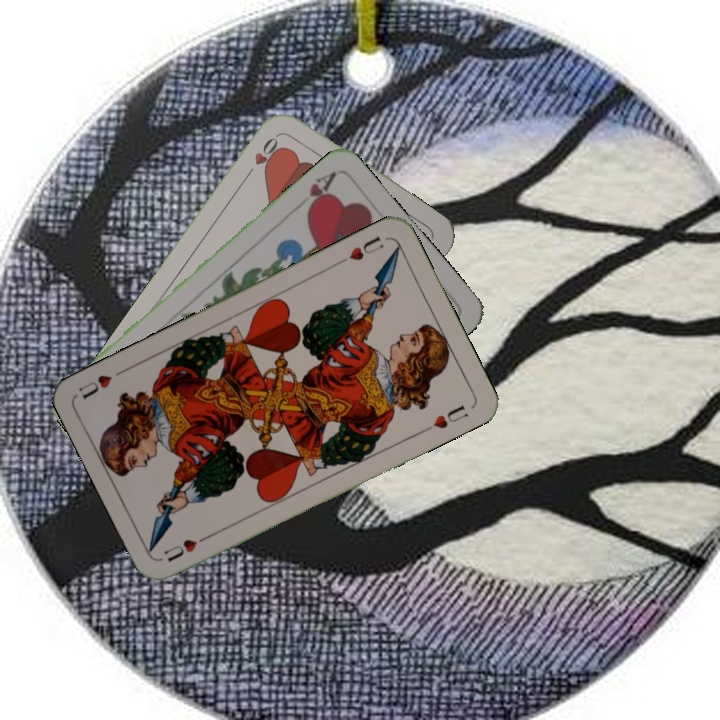HA: (291, 167, 339, 216)
HO: (242, 129, 285, 180)
HU: (159, 530, 214, 565), (334, 231, 387, 267)
